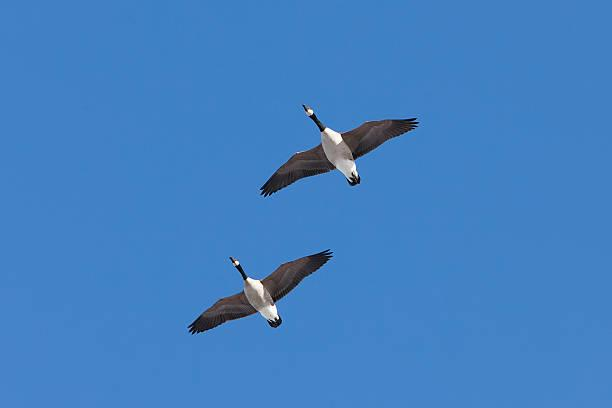Canadian-Goose: (249, 101, 423, 197), (189, 249, 336, 337)
